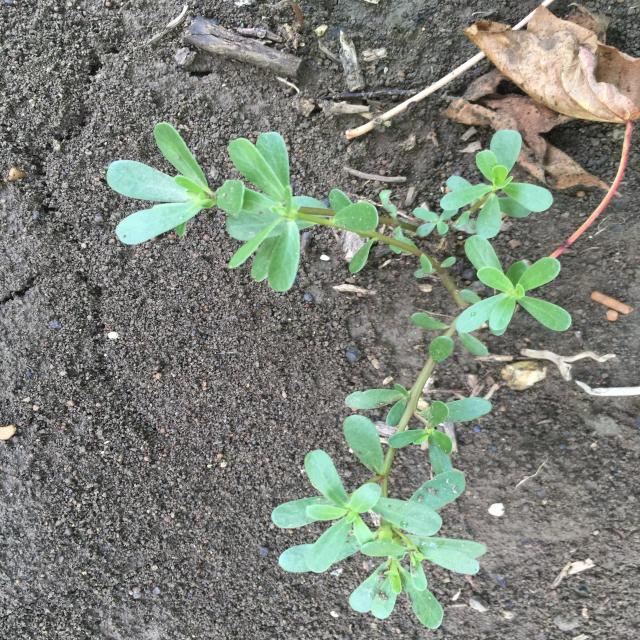Purslane: (107, 122, 572, 628)
